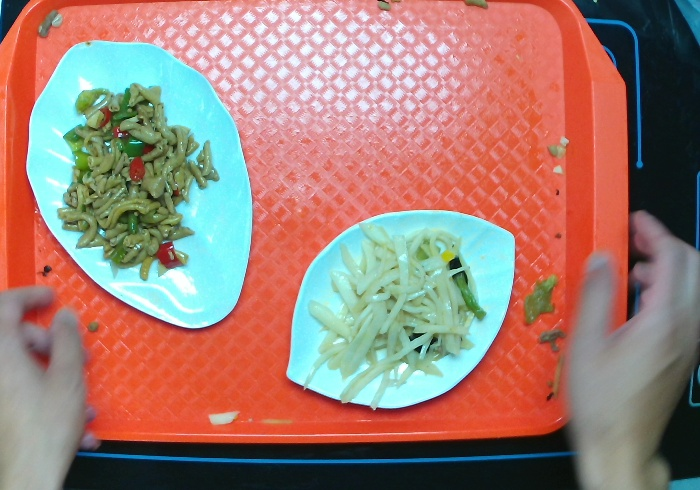RJxy-Bai_Ye_Pan: (21, 35, 259, 333)
RJxy-Da_Du_Pan: (267, 199, 523, 415)
